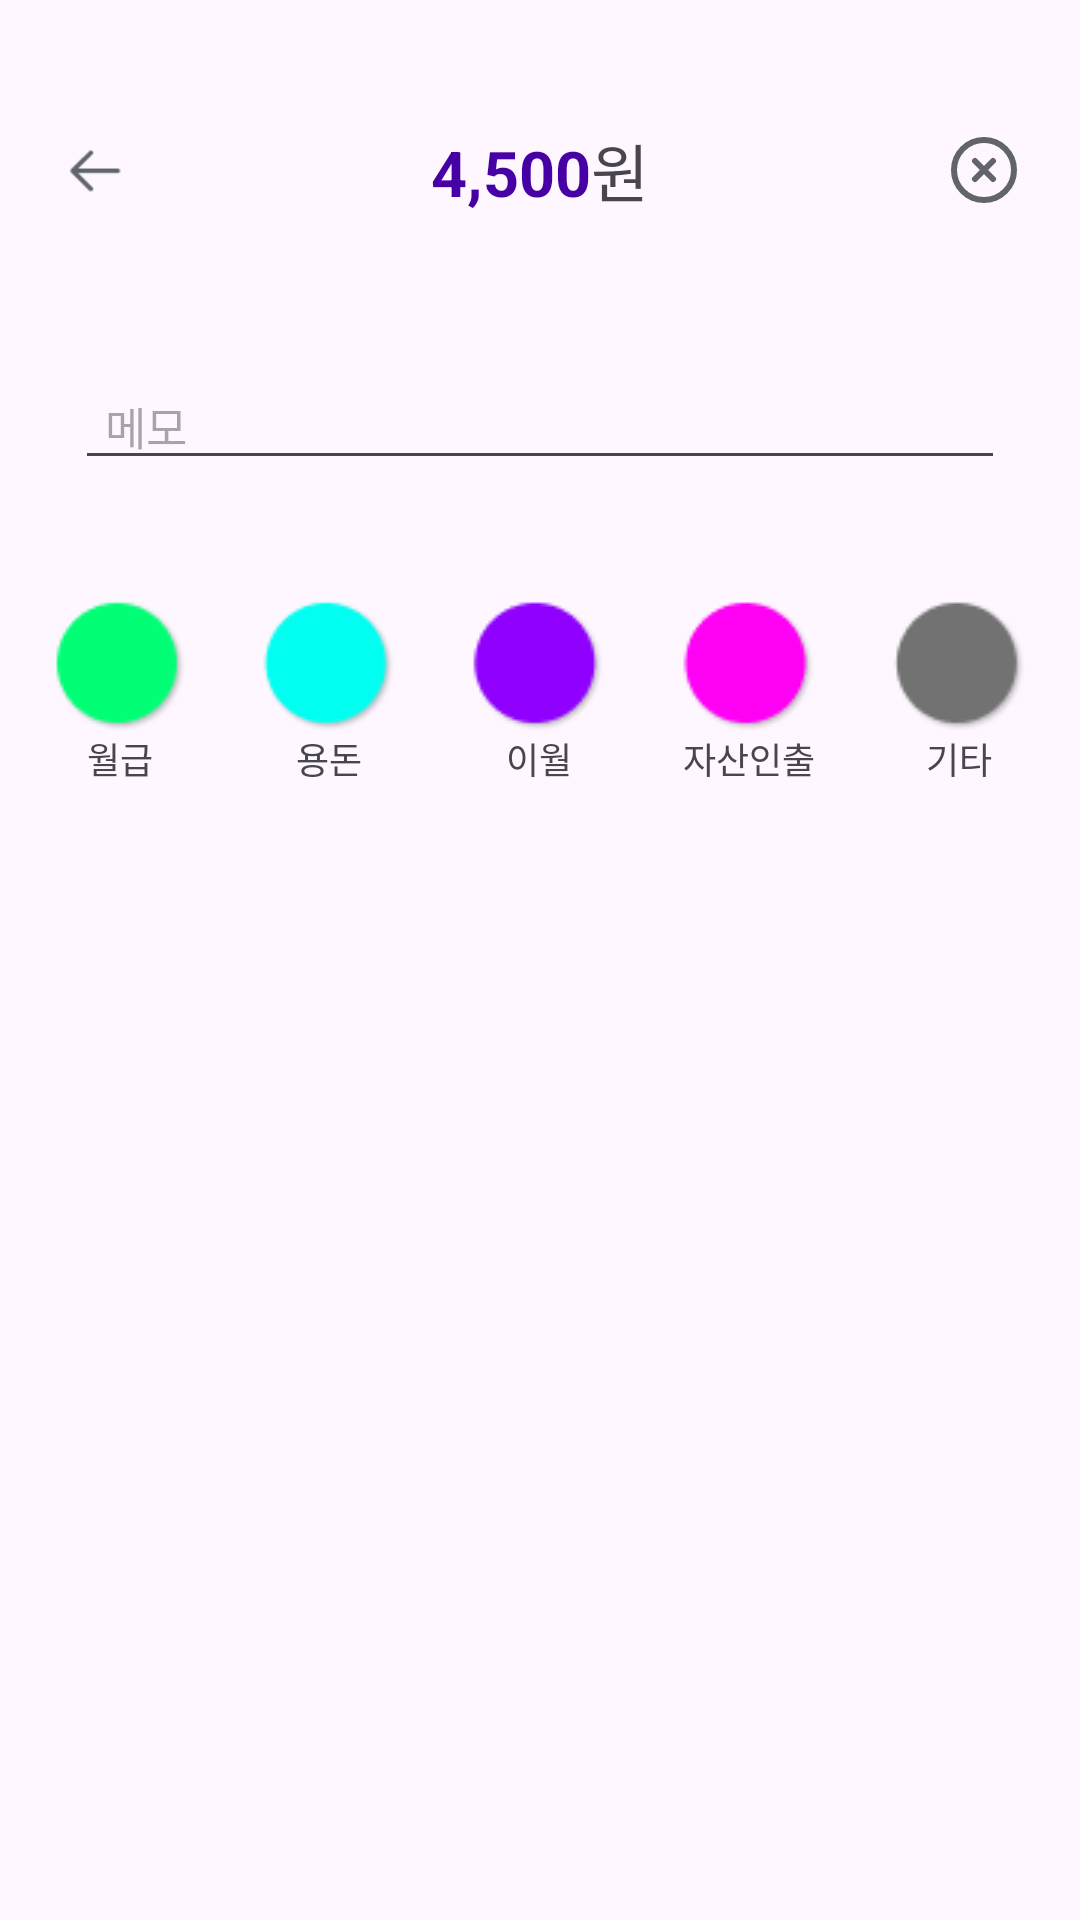

Icons on this 1080px×1920px Android screen, each with the point to tap as [x,y]:
goback: [95,171]
incomeclose: [984,170]
